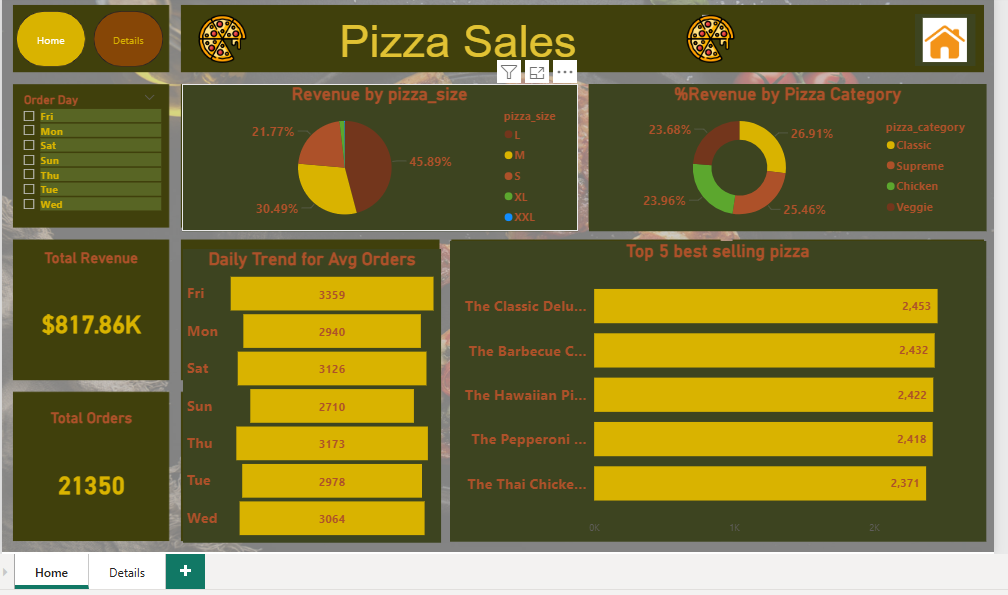

The page's visual inventory and layout, read from the dashboard file:
{"tool":"powerbi","page":{"name":"Home","canvas":[1280,720],"ordinal":0},"visuals":[{"type":"textbox","box":[267.9,19.8,647.7,72.3],"z":0},{"type":"image","box":[841.9,19.8,146,72.3],"z":1000},{"type":"image","box":[219.7,19.8,130.4,72.3],"z":2000},{"type":"pageNavigator","box":[18.4,19.8,191.3,72.3],"z":3000},{"type":"card","title":"Total Revenue","fields":{"Values":["measures (2).Total Revenue"]},"box":[18.6,326.1,194.5,168.8],"z":4000},{"type":"barChart","title":"Top 5 best selling pizza","fields":{"Category":["Query (2).pizza_name"],"Y":["measures (2).Total Pizza Sold"]},"box":[578.3,316.1,691.7,388.3],"z":5000},{"type":"donutChart","title":"%Revenue by Pizza Category ","fields":{"Y":["measures (2).Revenue % Category"],"Category":["Query (2).pizza_category"]},"box":[756.9,113.4,513.1,189.9],"z":6000},{"type":"pieChart","title":"Revenue by pizza_size","fields":{"Category":["Query (2).pizza_size"],"Y":["measures (2).Total Revenue"]},"box":[232.4,113.4,510.2,189.9],"z":7000},{"type":"funnel","title":"Daily Trend for Avg Orders","fields":{"Category":["Query (2).Order Day"],"Y":["measures (2).Total Orders"]},"box":[233.1,326.1,333.2,379],"z":8000},{"type":"image","box":[1177.8,22.7,78,66.6],"z":9000},{"type":"slicer","fields":{"Values":["Query (2).Order Day"]},"box":[15.7,118.7,194.5,184.5],"z":10000},{"type":"card","title":"Total Orders","fields":{"Values":["measures (2).Total Orders"]},"box":[18.6,533.5,194.5,171.6],"z":11000}]}

Visuals, with their boxes on the page's 1280x720 design canvas (x1, y1, x2, y2). These are canvas units, not pixel positions in the 1008x595 screenshot, which may show the page scaled, cropped or inside an application window:
textbox: Rect(268, 20, 916, 92)
image: Rect(842, 20, 988, 92)
image: Rect(220, 20, 350, 92)
pageNavigator: Rect(18, 20, 210, 92)
"Total Revenue" card: Rect(19, 326, 213, 495)
"Top 5 best selling pizza" barChart: Rect(578, 316, 1270, 704)
"%Revenue by Pizza Category " donutChart: Rect(757, 113, 1270, 303)
"Revenue by pizza_size" pieChart: Rect(232, 113, 743, 303)
"Daily Trend for Avg Orders" funnel: Rect(233, 326, 566, 705)
image: Rect(1178, 23, 1256, 89)
slicer - Query (2).Order Day: Rect(16, 119, 210, 303)
"Total Orders" card: Rect(19, 534, 213, 705)
